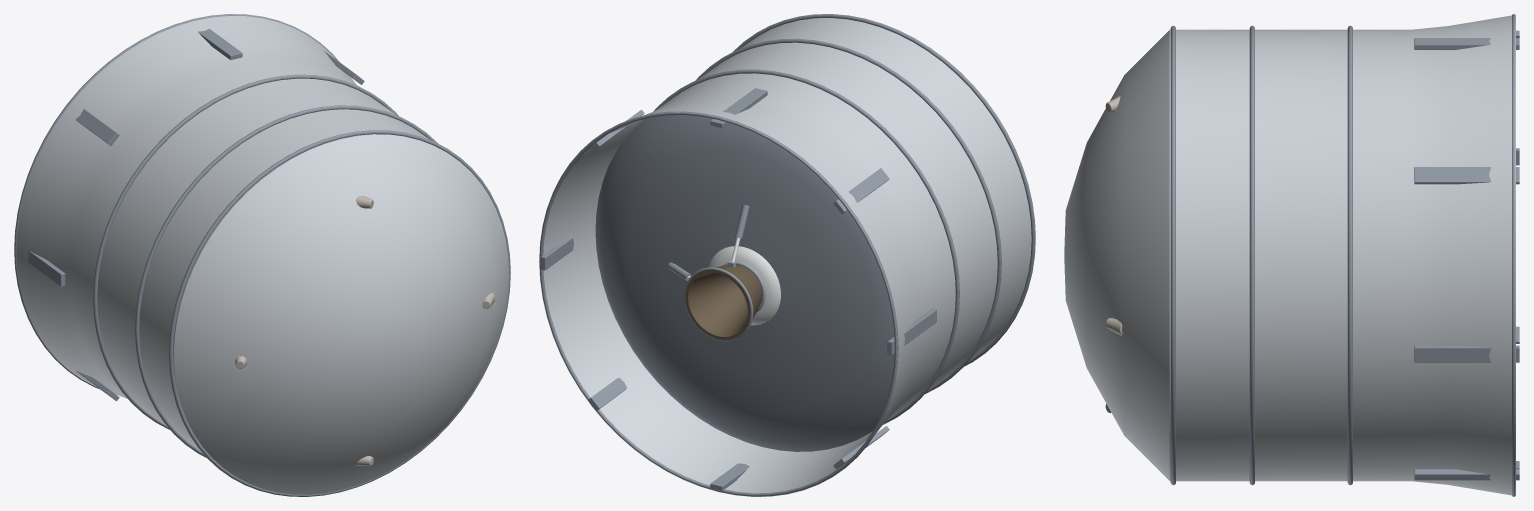
Rendered from booster-standard.glb.
3 renders of one model, left to right at view 1: azimuth 30°, elevation 25°; view 2: azimuth 150°, elevation 25°; view 3: azimuth 270°, elevation 25°, orthographic. The views are drawn at different scales.
Visible parts, largest first — view 1: booster_casing, booster_joint_1.55, booster_joint_-0.8, booster_joint_0.5, booster_aft_skirt_rim, skirt_rib_3, skirt_rib_4, skirt_rib_2; view 2: booster_casing, booster_aft_dome, booster_aft_skirt_rim, booster_nozzle, booster_joint_-0.8, booster_joint_0.5, booster_joint_1.55, booster_flex_boot, skirt_rib_3, skirt_rib_4, skirt_rib_2, skirt_rib_7 (+1 smaller); view 3: booster_casing, booster_joint_-0.8, booster_joint_0.5, booster_joint_1.55, booster_aft_skirt_rim, skirt_rib_1, skirt_rib_0, skirt_rib_2, skirt_rib_7.
Part boxes in pixels (<box>): booster_casing: <box>14,14,508,494</box>; booster_joint_1.55: <box>169,130,510,496</box>; booster_joint_-0.8: <box>93,74,398,429</box>; booster_joint_0.5: <box>135,105,438,457</box>; booster_aft_skirt_rim: <box>14,14,339,388</box>; skirt_rib_3: <box>75,109,119,145</box>; skirt_rib_4: <box>28,250,65,286</box>; skirt_rib_2: <box>198,29,242,60</box>; booster_casing: <box>539,18,1031,496</box>; booster_aft_dome: <box>595,115,894,451</box>; booster_aft_skirt_rim: <box>539,111,898,496</box>; booster_nozzle: <box>685,258,780,339</box>; booster_joint_-0.8: <box>653,69,959,424</box>; booster_joint_0.5: <box>696,38,1001,393</box>; booster_joint_1.55: <box>733,14,1035,366</box>; booster_flex_boot: <box>708,246,780,325</box>; skirt_rib_3: <box>833,168,889,213</box>; skirt_rib_4: <box>887,308,936,354</box>; skirt_rib_2: <box>710,88,767,128</box>; skirt_rib_7: <box>588,377,626,410</box>; booster_casing: <box>1064,15,1515,495</box>; booster_joint_-0.8: <box>1347,25,1352,485</box>; booster_joint_0.5: <box>1249,25,1254,485</box>; booster_joint_1.55: <box>1170,25,1175,485</box>; booster_aft_skirt_rim: <box>1512,14,1515,496</box>; skirt_rib_1: <box>1414,167,1519,184</box>; skirt_rib_0: <box>1414,345,1519,362</box>; skirt_rib_2: <box>1414,38,1519,49</box>; skirt_rib_7: <box>1414,469,1519,480</box>.
Size of the model in its own units: 6.42 by 6.42 by 6.05.
